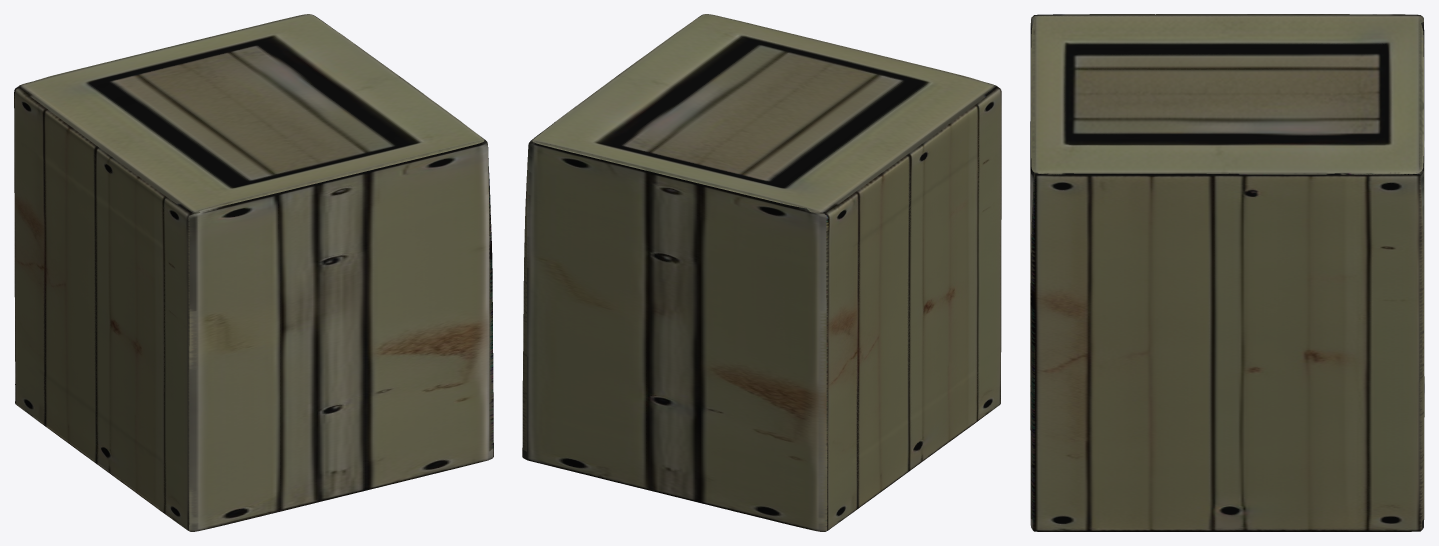
The model's file is wall-industrial-corner.glb.
3 views of the same model, side by side, from view 1: azimuth 30°, elevation 25°; view 2: azimuth 150°, elevation 25°; view 3: azimuth 270°, elevation 25° (orthographic). The views are drawn at different scales.
Parts seen in each view (by area): view 1: tmpa_ku5ecv.ply; view 2: tmpa_ku5ecv.ply; view 3: tmpa_ku5ecv.ply.
Part boxes in pixels (left/top/right/bottom): tmpa_ku5ecv.ply: left=14, top=14, right=493, bottom=531; tmpa_ku5ecv.ply: left=522, top=14, right=1001, bottom=531; tmpa_ku5ecv.ply: left=1030, top=14, right=1424, bottom=531.
Size of the model in its own units: 1 by 1 by 1.
1 material, 1 textured.
